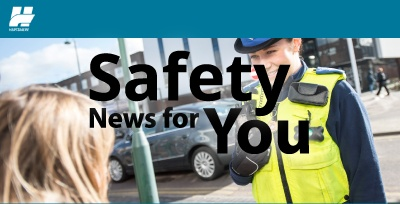person with partial safety: (232, 38, 383, 204)
safety vest: (244, 72, 355, 204)
